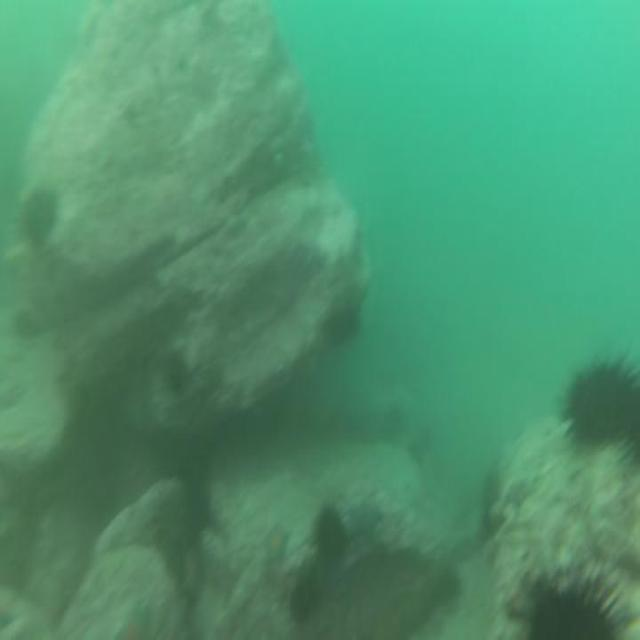echinus: (516, 561, 638, 640), (560, 351, 640, 452), (17, 182, 59, 251), (312, 498, 349, 566), (158, 343, 193, 403), (322, 303, 361, 354), (287, 577, 316, 630), (433, 560, 466, 606)
starfish: (260, 518, 290, 572), (503, 476, 537, 512)
